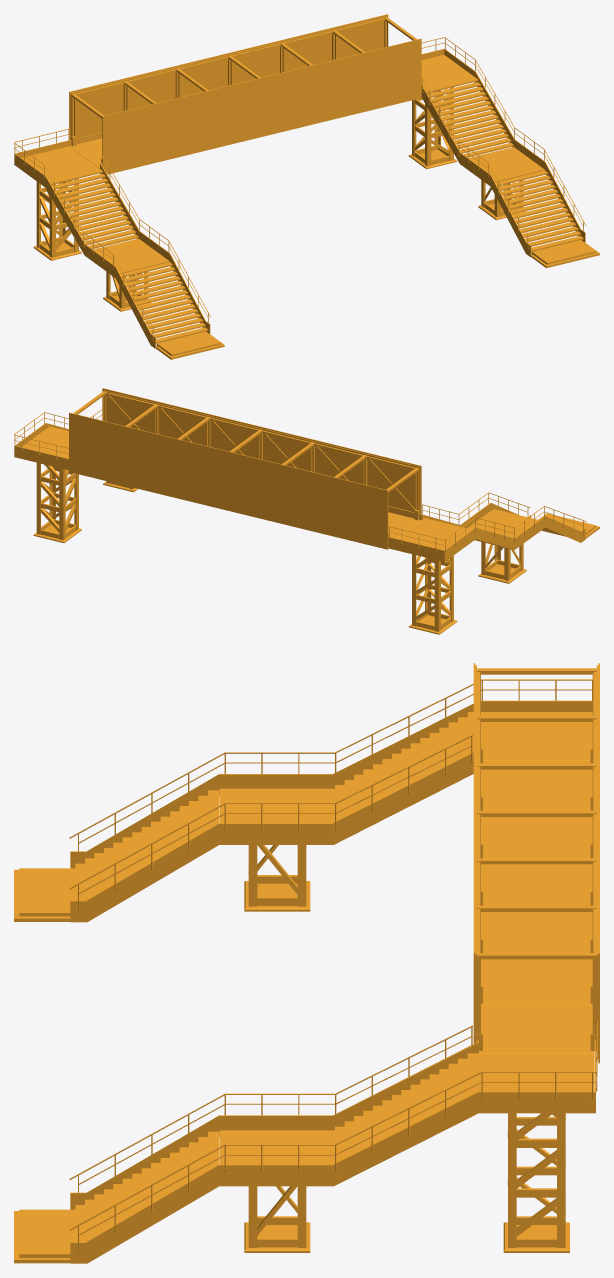
Rendered from SM_Overpass_Racetrack_Color.fbx.
The picture shows the model from 3 angles, top to bottom: view 1: azimuth 30°, elevation 25°; view 2: azimuth 150°, elevation 25°; view 3: azimuth 270°, elevation 25°; orthographic projection. The views are drawn at different scales.
Visible parts, largest first — view 1: SM_Overpass_Racetrack_Color; view 2: SM_Overpass_Racetrack_Color; view 3: SM_Overpass_Racetrack_Color.
Part boxes in pixels (left/top/right/bottom): SM_Overpass_Racetrack_Color: left=14, top=14, right=599, bottom=359; SM_Overpass_Racetrack_Color: left=14, top=388, right=599, bottom=634; SM_Overpass_Racetrack_Color: left=14, top=663, right=599, bottom=1263.
Size of the model in its own units: 32.2 by 9.94 by 20.31.
